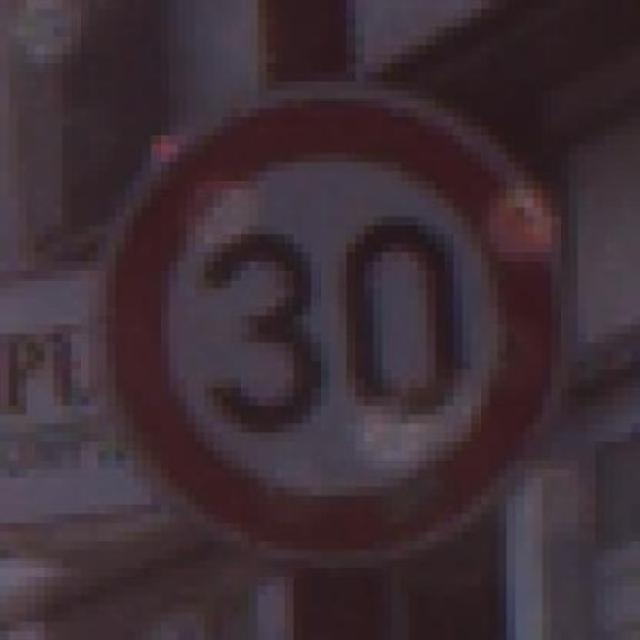Speed Limit 30 KMPh: (36, 72, 596, 559)
